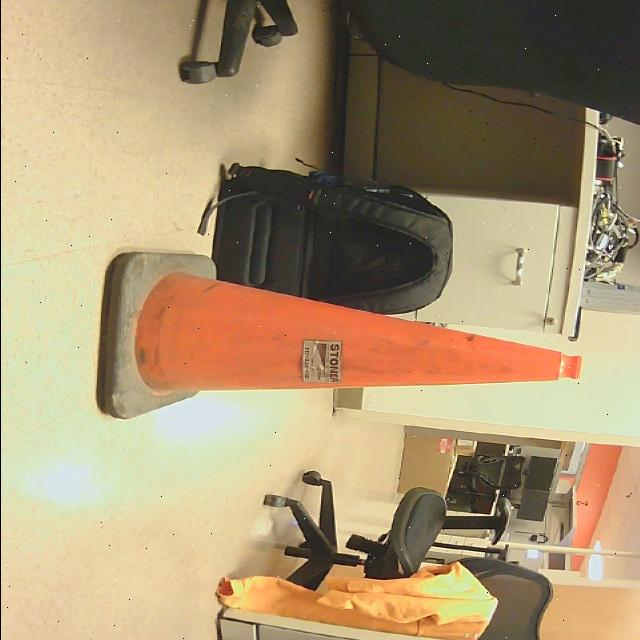traffic cone: (92, 252, 582, 421)
